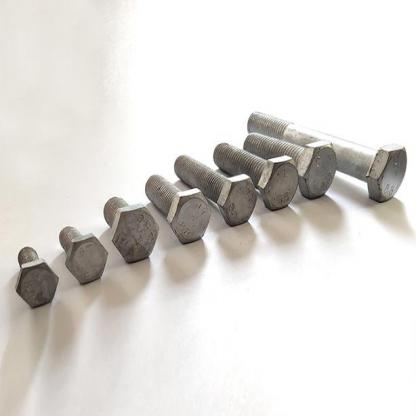FOD: (247, 109, 410, 204), (241, 131, 339, 198), (172, 152, 258, 227), (212, 139, 300, 210), (144, 172, 212, 246), (102, 197, 160, 262), (57, 225, 109, 285), (16, 247, 61, 309)
